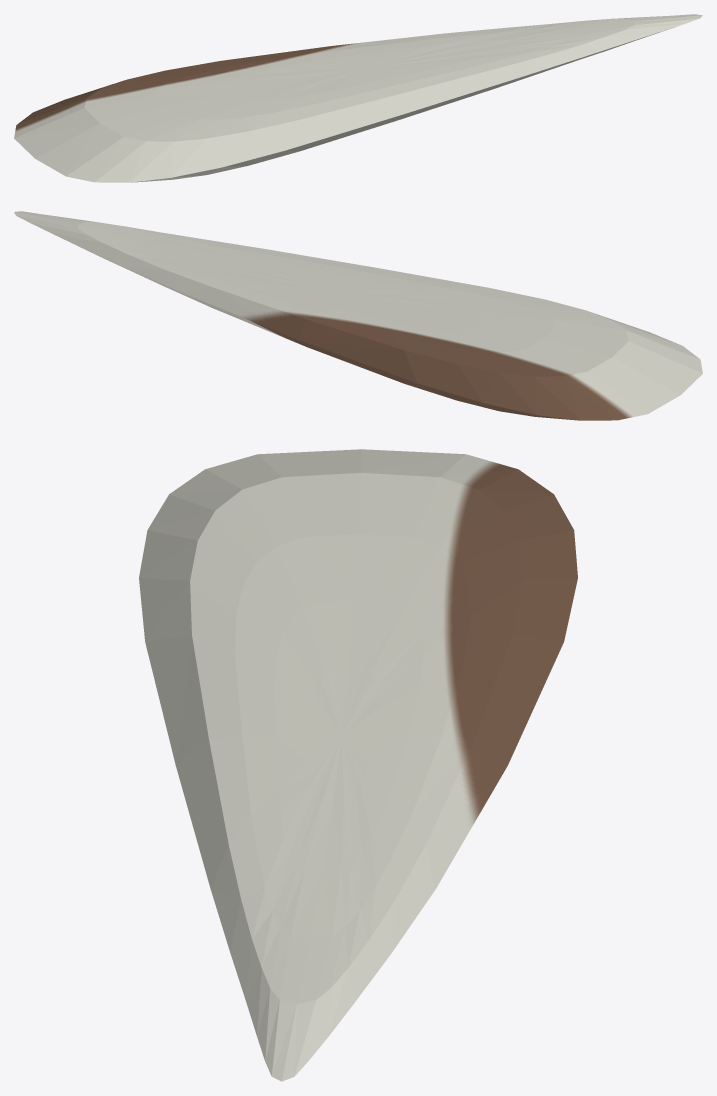
The model's file is animal_duck_drake_wing.obj.
3 renders of one model, top to bottom at view 1: azimuth 30°, elevation 25°; view 2: azimuth 150°, elevation 25°; view 3: azimuth 270°, elevation 25°, orthographic. The views are drawn at different scales.
Visible parts, largest first — view 1: animal_duck_drake_wing; view 2: animal_duck_drake_wing; view 3: animal_duck_drake_wing.
Part boxes in pixels (<box>): animal_duck_drake_wing: <box>14,14,702,182</box>; animal_duck_drake_wing: <box>14,211,702,420</box>; animal_duck_drake_wing: <box>139,449,577,1081</box>.
Bounding box in the file's own units: 0.3864 × 0.0238 × 0.1134.
